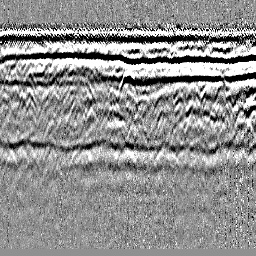cavity: (116, 69, 138, 98)
